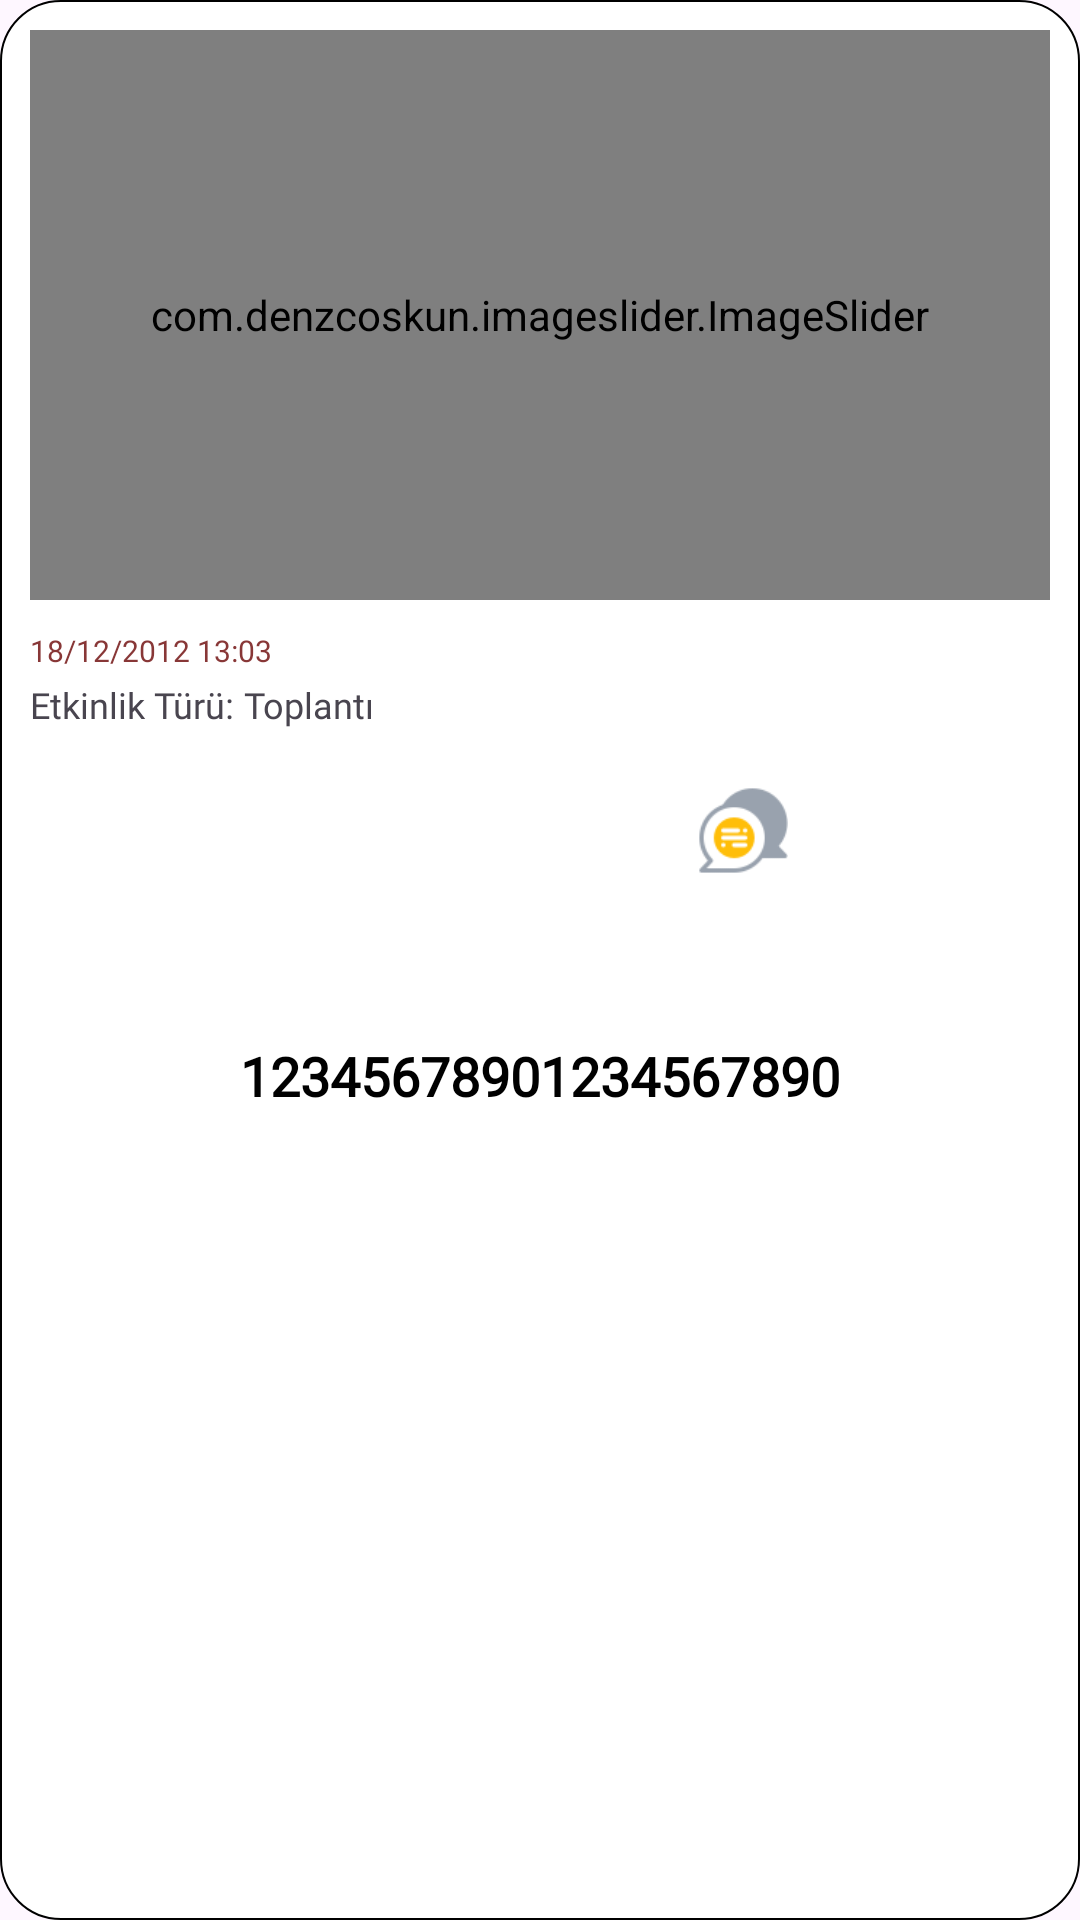

Icon click points for this 1080px×1920px phone screenshot, format (x=x, y=y):
Sohbet Odası: (x=743, y=830)
